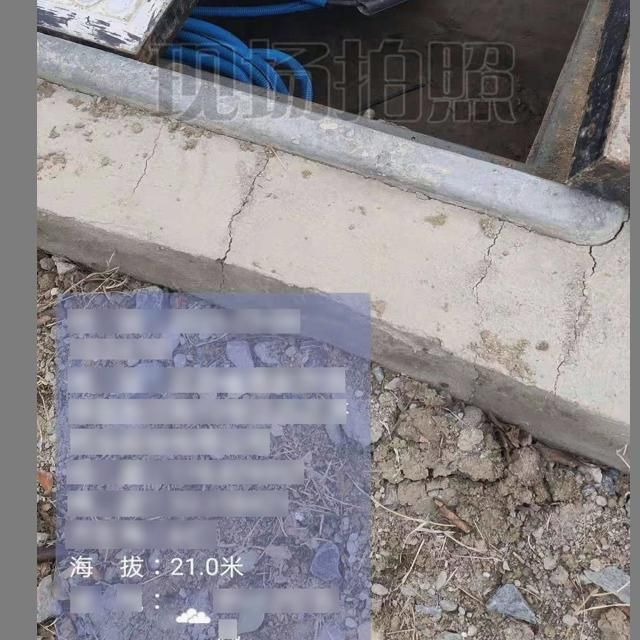lose: (39, 0, 630, 235)
